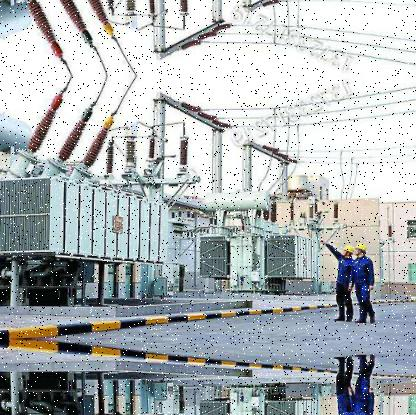helmet: (342, 243, 355, 259), (355, 242, 368, 257)
